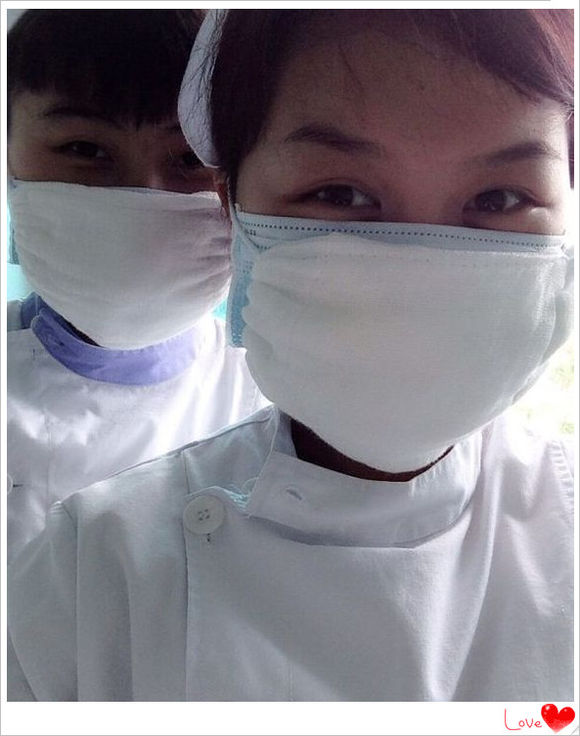face_mask: (243, 16, 579, 473), (10, 29, 232, 371)
